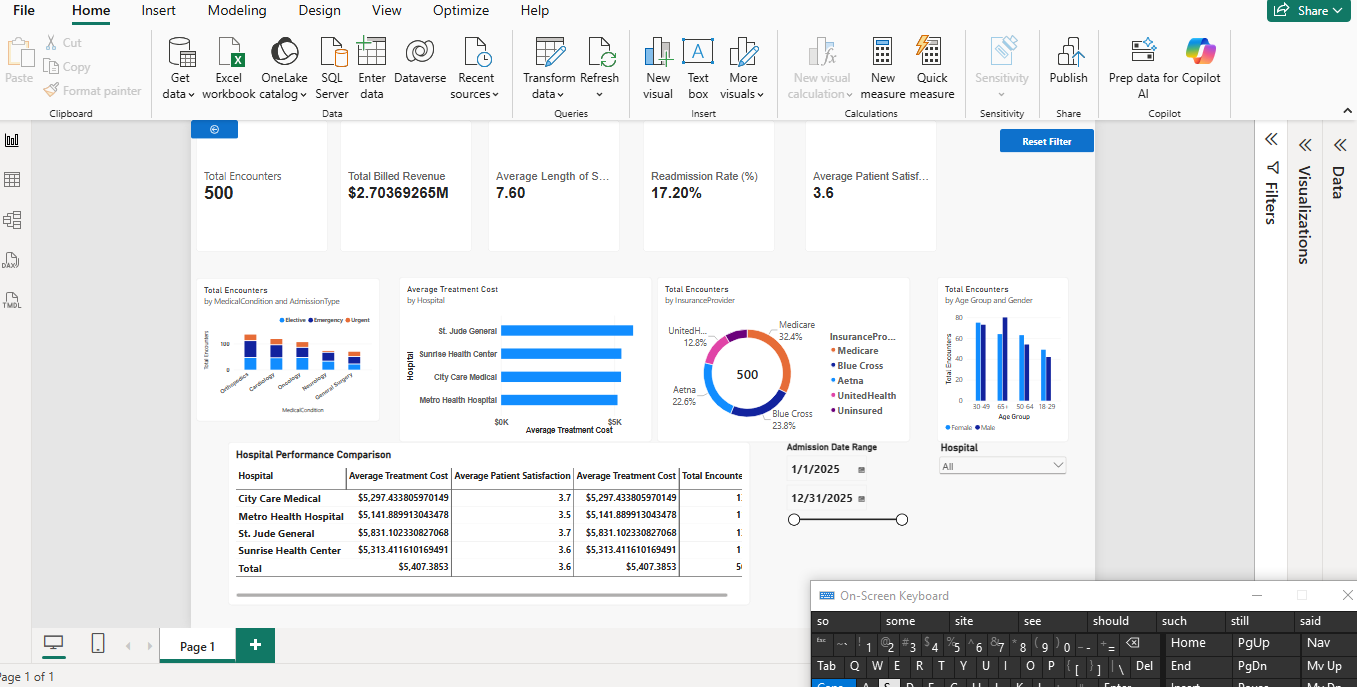

The page's visual inventory and layout, read from the dashboard file:
{"tool":"powerbi","page":{"name":"Page 1","canvas":[1920,1080],"ordinal":0},"visuals":[{"type":"cardVisual","fields":{"Data":["_Measures.Total Encounters"]},"box":[10,0,280,280],"z":0},{"type":"cardVisual","fields":{"Data":["_Measures.Total Billed Revenue"]},"box":[316.8,0,280,280],"z":1000},{"type":"cardVisual","fields":{"Data":["_Measures.Average Length of Stay"]},"box":[631.4,0,280,280],"z":2000},{"type":"cardVisual","fields":{"Data":["_Measures.Readmission Rate (%)"]},"box":[960.9,0,280,280],"z":3000},{"type":"cardVisual","fields":{"Data":["_Measures.Average Patient Satisfaction"]},"box":[1305.4,0,280,280],"z":4000},{"type":"columnChart","fields":{"Category":["Hospital Encounters Data.MedicalCondition"],"Series":["Hospital Encounters Data.AdmissionType"],"Y":["_Measures.Total Encounters"]},"box":[10.1,335.1,390.6,304.9],"z":5000},{"type":"clusteredBarChart","fields":{"Category":["Hospital Encounters Data.Hospital"],"Y":["_Measures.Average Treatment Cost"]},"box":[442.2,333.8,537.9,350.8],"z":6000},{"type":"donutChart","fields":{"Category":["Hospital Encounters Data.InsuranceProvider"],"Y":["_Measures.Total Encounters"]},"box":[990,334,538,351],"z":7000},{"type":"clusteredColumnChart","fields":{"Category":["Hospital Encounters Data.Age Group"],"Series":["Hospital Encounters Data.Gender"],"Y":["_Measures.Total Encounters"]},"box":[1585,334,280,351],"z":8000},{"type":"actionButton","box":[0,0,100,40],"z":9000},{"type":"pivotTable","title":"Hospital Performance Comparison","fields":{"Rows":["Hospital Encounters Data.Hospital"],"Values":["_Measures.Average Treatment Cost","_Measures.Average Patient Satisfaction","_Measures.Average Treatment Cost","_Measures.Total Encounters"]},"box":[78.7,684.6,1109.8,346.5],"z":10000},{"type":"slicer","fields":{"Values":["Hospital Encounters Data.AdmissionDate"]},"box":[1259,685,269,376],"z":11000},{"type":"slicer","fields":{"Values":["Hospital Encounters Data.Hospital"]},"box":[1585,685,280,376],"z":12000},{"type":"actionButton","box":[1719.9,19.1,200,50],"z":13000}]}

Visuals, with their boxes on the page's 1920x1080 design canvas (x1, y1, x2, y2). These are canvas units, not pixel positions in the 1357x687 screenshot, which may show the page scaled, cropped or inside an application window:
cardVisual - _Measures.Total Encounters: detection(10, 0, 290, 280)
cardVisual - _Measures.Total Billed Revenue: detection(317, 0, 597, 280)
cardVisual - _Measures.Average Length of Stay: detection(631, 0, 911, 280)
cardVisual - _Measures.Readmission Rate (%): detection(961, 0, 1241, 280)
cardVisual - _Measures.Average Patient Satisfaction: detection(1305, 0, 1585, 280)
columnChart - Hospital Encounters Data.MedicalCondition x Hospital Encounters Data.AdmissionType: detection(10, 335, 401, 640)
clusteredBarChart - Hospital Encounters Data.Hospital x _Measures.Average Treatment Cost: detection(442, 334, 980, 685)
donutChart - Hospital Encounters Data.InsuranceProvider x _Measures.Total Encounters: detection(990, 334, 1528, 685)
clusteredColumnChart - Hospital Encounters Data.Age Group x Hospital Encounters Data.Gender: detection(1585, 334, 1865, 685)
actionButton: detection(0, 0, 100, 40)
"Hospital Performance Comparison" pivotTable: detection(79, 685, 1188, 1031)
slicer - Hospital Encounters Data.AdmissionDate: detection(1259, 685, 1528, 1061)
slicer - Hospital Encounters Data.Hospital: detection(1585, 685, 1865, 1061)
actionButton: detection(1720, 19, 1920, 69)
